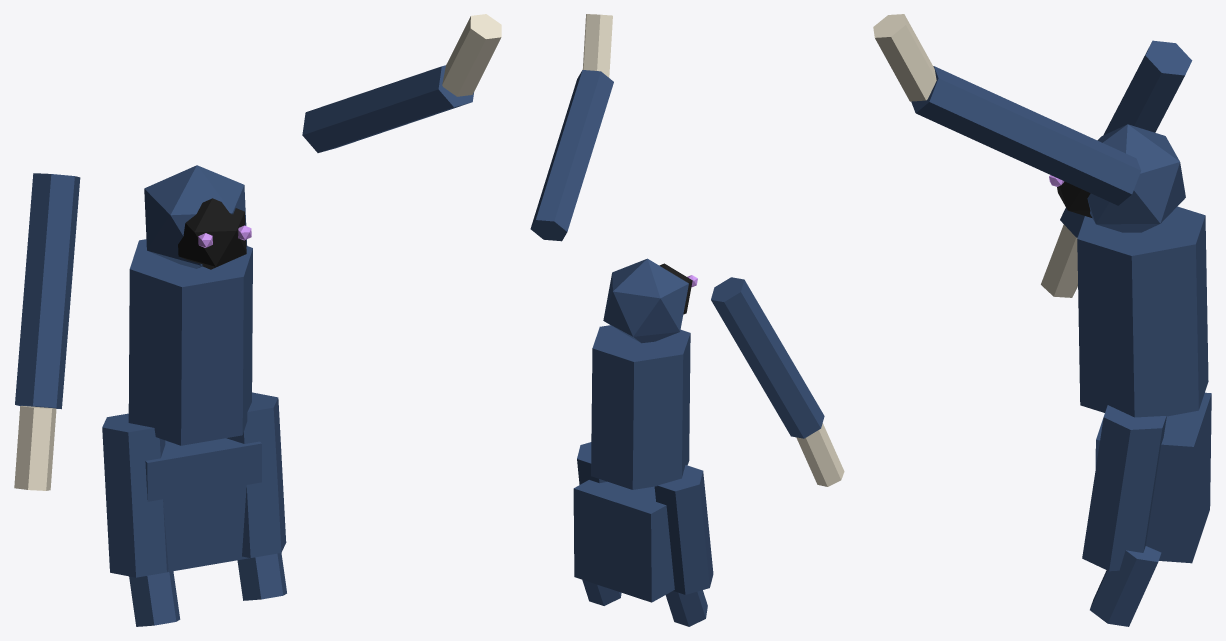
The model's file is npcpose_wraith_attack_03.glb.
The picture shows the model from 3 angles, left to right: view 1: azimuth 30°, elevation 25°; view 2: azimuth 150°, elevation 25°; view 3: azimuth 270°, elevation 25°; orthographic projection. The views are drawn at different scales.
Parts seen in each view (by area): view 1: npcpose; view 2: npcpose; view 3: npcpose.
Part boxes in pixels (left/top/right/bottom): npcpose: left=14, top=14, right=501, bottom=626; npcpose: left=530, top=14, right=844, bottom=626; npcpose: left=873, top=14, right=1211, bottom=626.
Size of the model in its own units: 0.9823 by 1.48 by 0.685.
